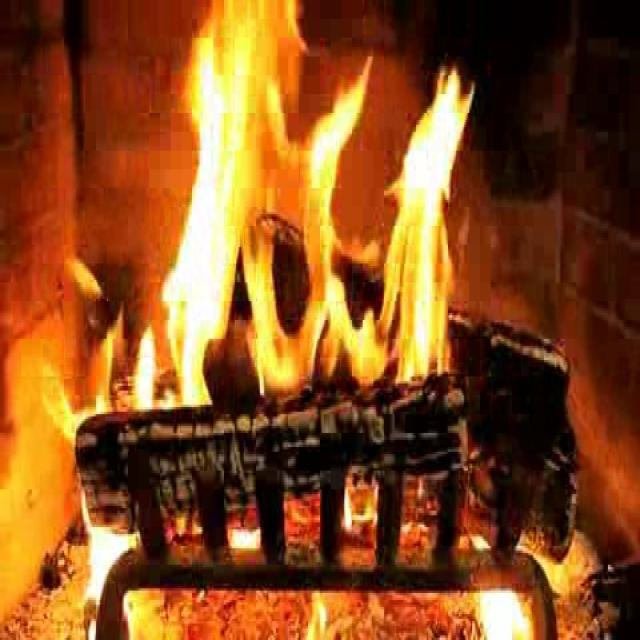fire: (157, 14, 469, 399)
